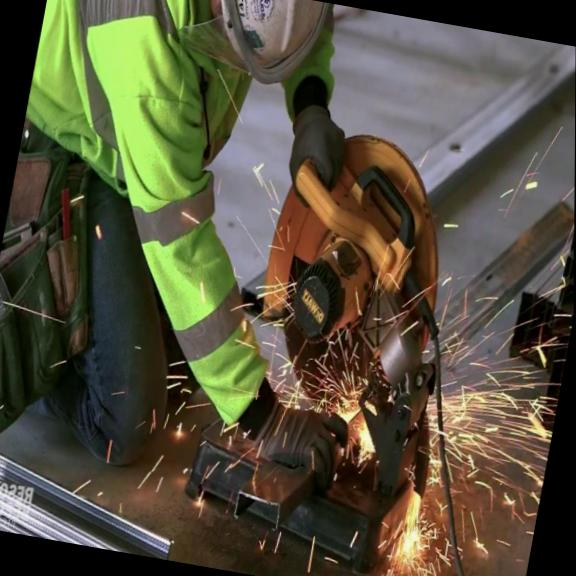safety_vest: (0, 0, 350, 433)
